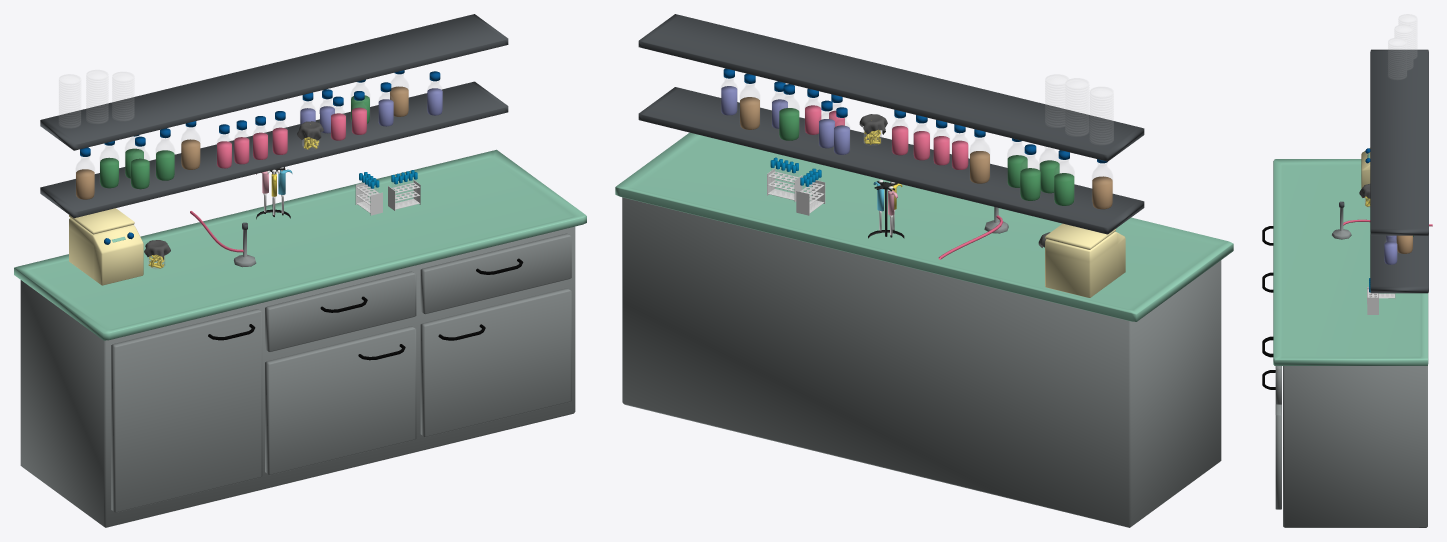
The model's file is lab_hospital.fbx.
3 renders of one model, left to right at view 1: azimuth 30°, elevation 25°; view 2: azimuth 150°, elevation 25°; view 3: azimuth 270°, elevation 25°, orthographic. The views are drawn at different scales.
Visible parts, largest first — view 1: Torus.000_0.001, Torus.004_0.001, Torus.002_0.001, Cube_0.002, Circle.011_0.001, Circle.003_0.001, Torus.003_0.001, Circle.012_0.001, Plane.004_0.001, Plane.000_0.001; view 2: Torus.000_0.001, Torus.004_0.001, Torus.002_0.001, Cube_0.002, Circle.011_0.001, Circle.003_0.001, Circle.012_0.001, Plane.000_0.001, Plane.004_0.001; view 3: Torus.000_0.001, Torus.004_0.001, Torus.002_0.001, Circle.012_0.001, Torus.003_0.001, Circle.003_0.001, Cube_0.002, inhalt_klein.001_0.001, inhalt.007_0.001, Plane.004_0.001, Circle.011_0.001, Circle.013_0.001.
Part boxes in pixels (x1,y1,x2,y2): Torus.000_0.001: (20,226,575,527); Torus.004_0.001: (14,149,586,340); Torus.002_0.001: (40,14,508,218); Cube_0.002: (69,208,143,285); Circle.011_0.001: (59,75,80,127); Circle.003_0.001: (86,70,107,123); Torus.003_0.001: (208,258,523,360); Circle.012_0.001: (112,72,133,120); Plane.004_0.001: (388,180,420,210); Plane.000_0.001: (355,182,382,215); Torus.000_0.001: (622,197,1221,527); Torus.004_0.001: (615,132,1233,321); Torus.002_0.001: (638,14,1144,234); Cube_0.002: (1045,223,1125,297); Circle.011_0.001: (1090,87,1113,144); Circle.003_0.001: (1065,79,1088,136); Circle.012_0.001: (1045,75,1068,127); Plane.000_0.001: (796,180,825,215); Plane.004_0.001: (767,168,802,201); Torus.000_0.001: (1275,366,1427,527); Torus.004_0.001: (1273,159,1428,365); Torus.002_0.001: (1370,49,1428,293); Circle.012_0.001: (1388,38,1406,79); Torus.003_0.001: (1262,226,1275,389); Circle.003_0.001: (1395,25,1412,69); Cube_0.002: (1361,148,1370,197); inhalt_klein.001_0.001: (1384,241,1397,264); inhalt.007_0.001: (1396,235,1412,253); Plane.004_0.001: (1367,287,1378,314); Circle.011_0.001: (1399,14,1416,58); Circle.013_0.001: (1331,207,1351,239).
Size of the model in its own units: 262 by 201 by 93.79.
